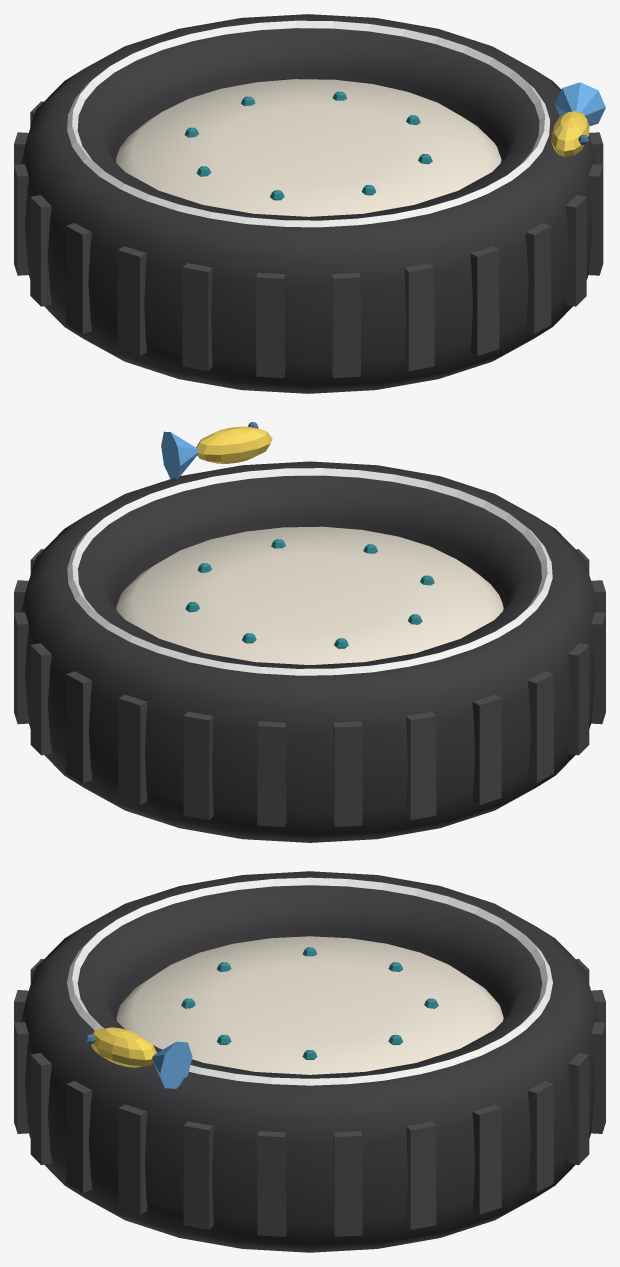
The model's file is cat_tire_bed.glb.
The picture shows the model from 3 angles, top to bottom: view 1: azimuth 30°, elevation 25°; view 2: azimuth 150°, elevation 25°; view 3: azimuth 270°, elevation 25°; orthographic projection.
Parts seen in each view (by area): view 1: cat_tire_bed; view 2: cat_tire_bed; view 3: cat_tire_bed.
Boxes of the visible parts, x1=… form: cat_tire_bed: x1=14, y1=14, x2=605, y2=393; cat_tire_bed: x1=14, y1=422, x2=605, y2=842; cat_tire_bed: x1=14, y1=871, x2=605, y2=1252.
Bounding box in the file's own units: 0.7931 × 0.2975 × 0.7931.
